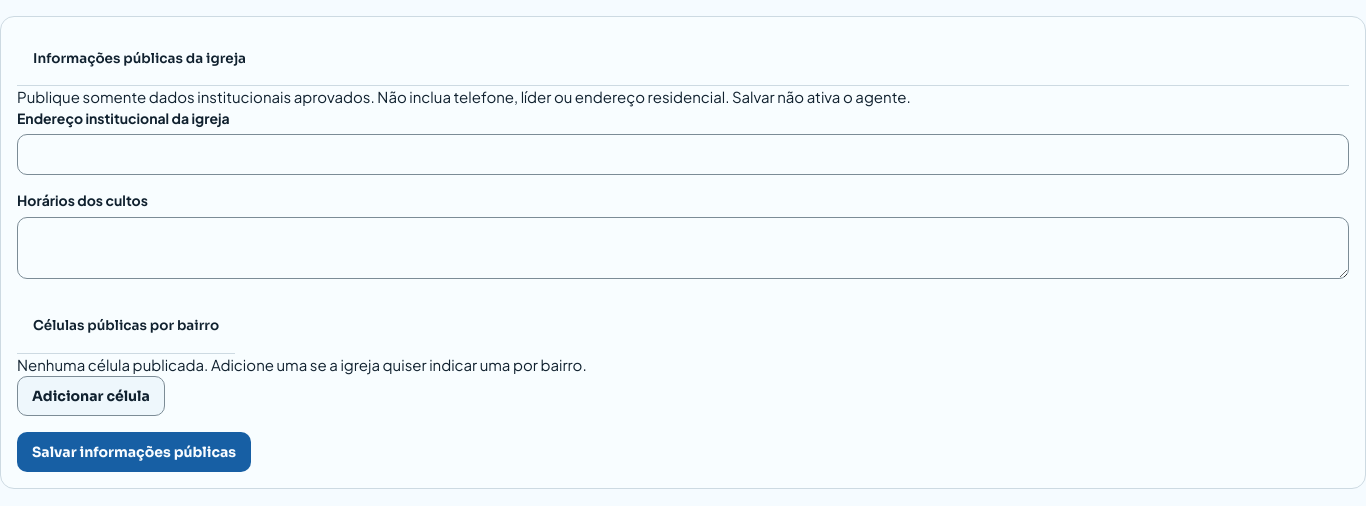
Scenario: rejeição tardia do PUT anterior não mostra erro no novo token
Click the button "Salvar informações públicas" at (134, 452), box [17,432,251,472]
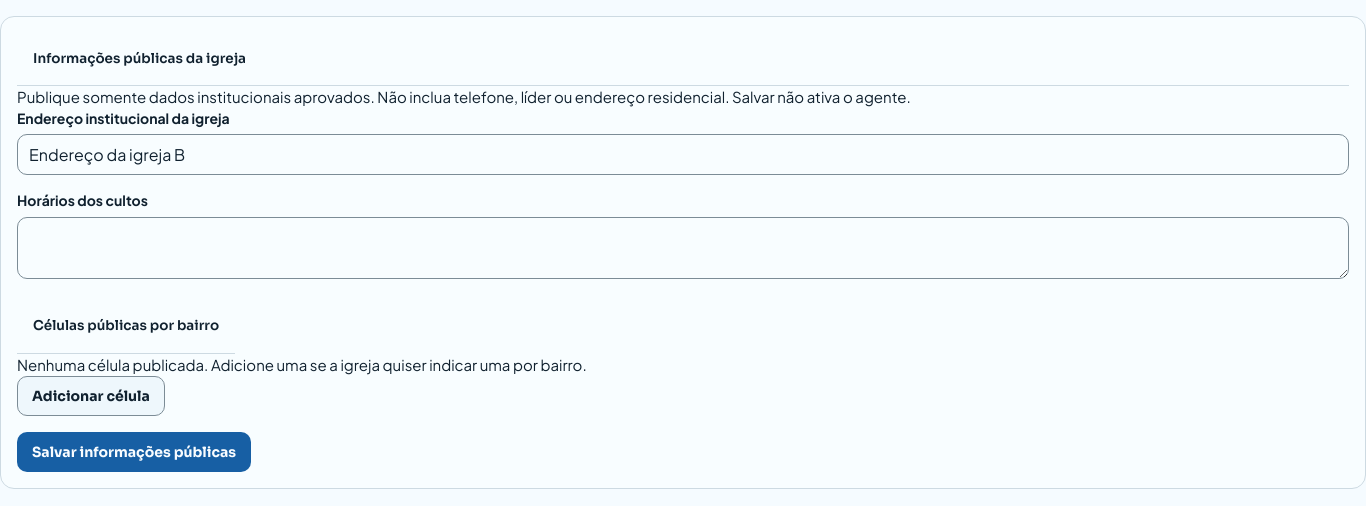
Result: the field labelled "Endereço institucional da igreja" holds "Endereço da igreja B" at [17,134,1349,175]
